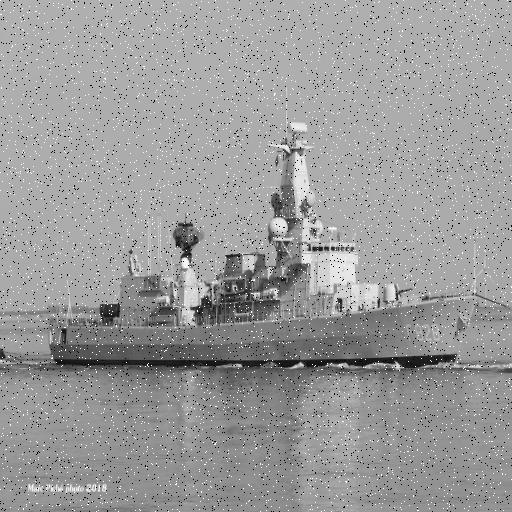Fragata: (44, 100, 480, 374)
